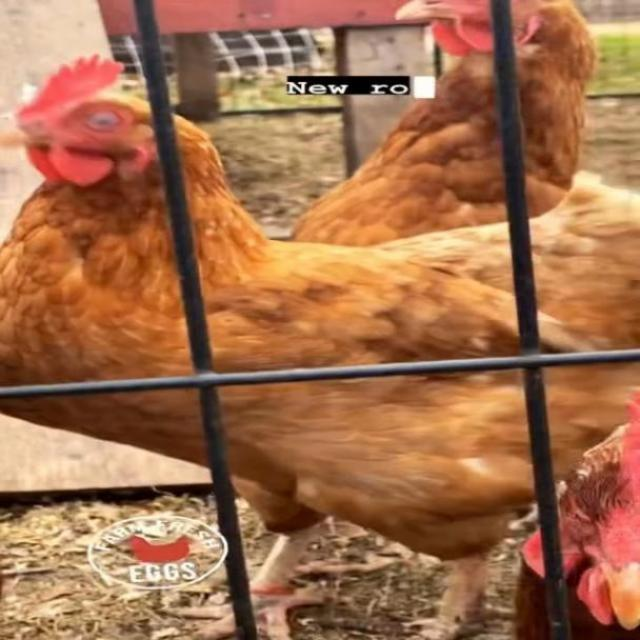Chicken: (1, 52, 640, 640), (288, 0, 604, 244), (505, 385, 640, 640)
